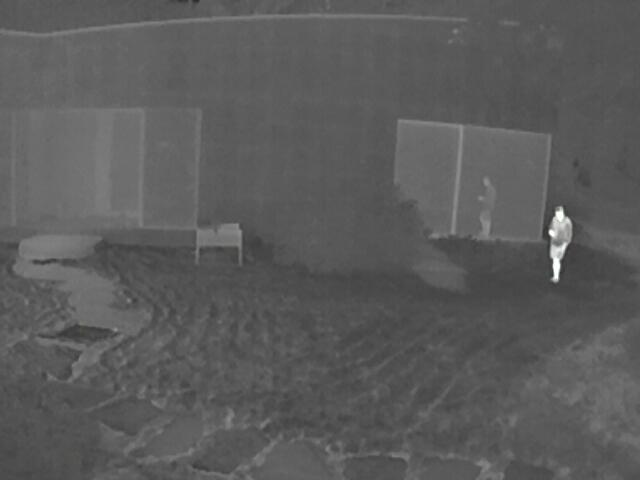person: (548, 204, 572, 285), (476, 175, 496, 242)
